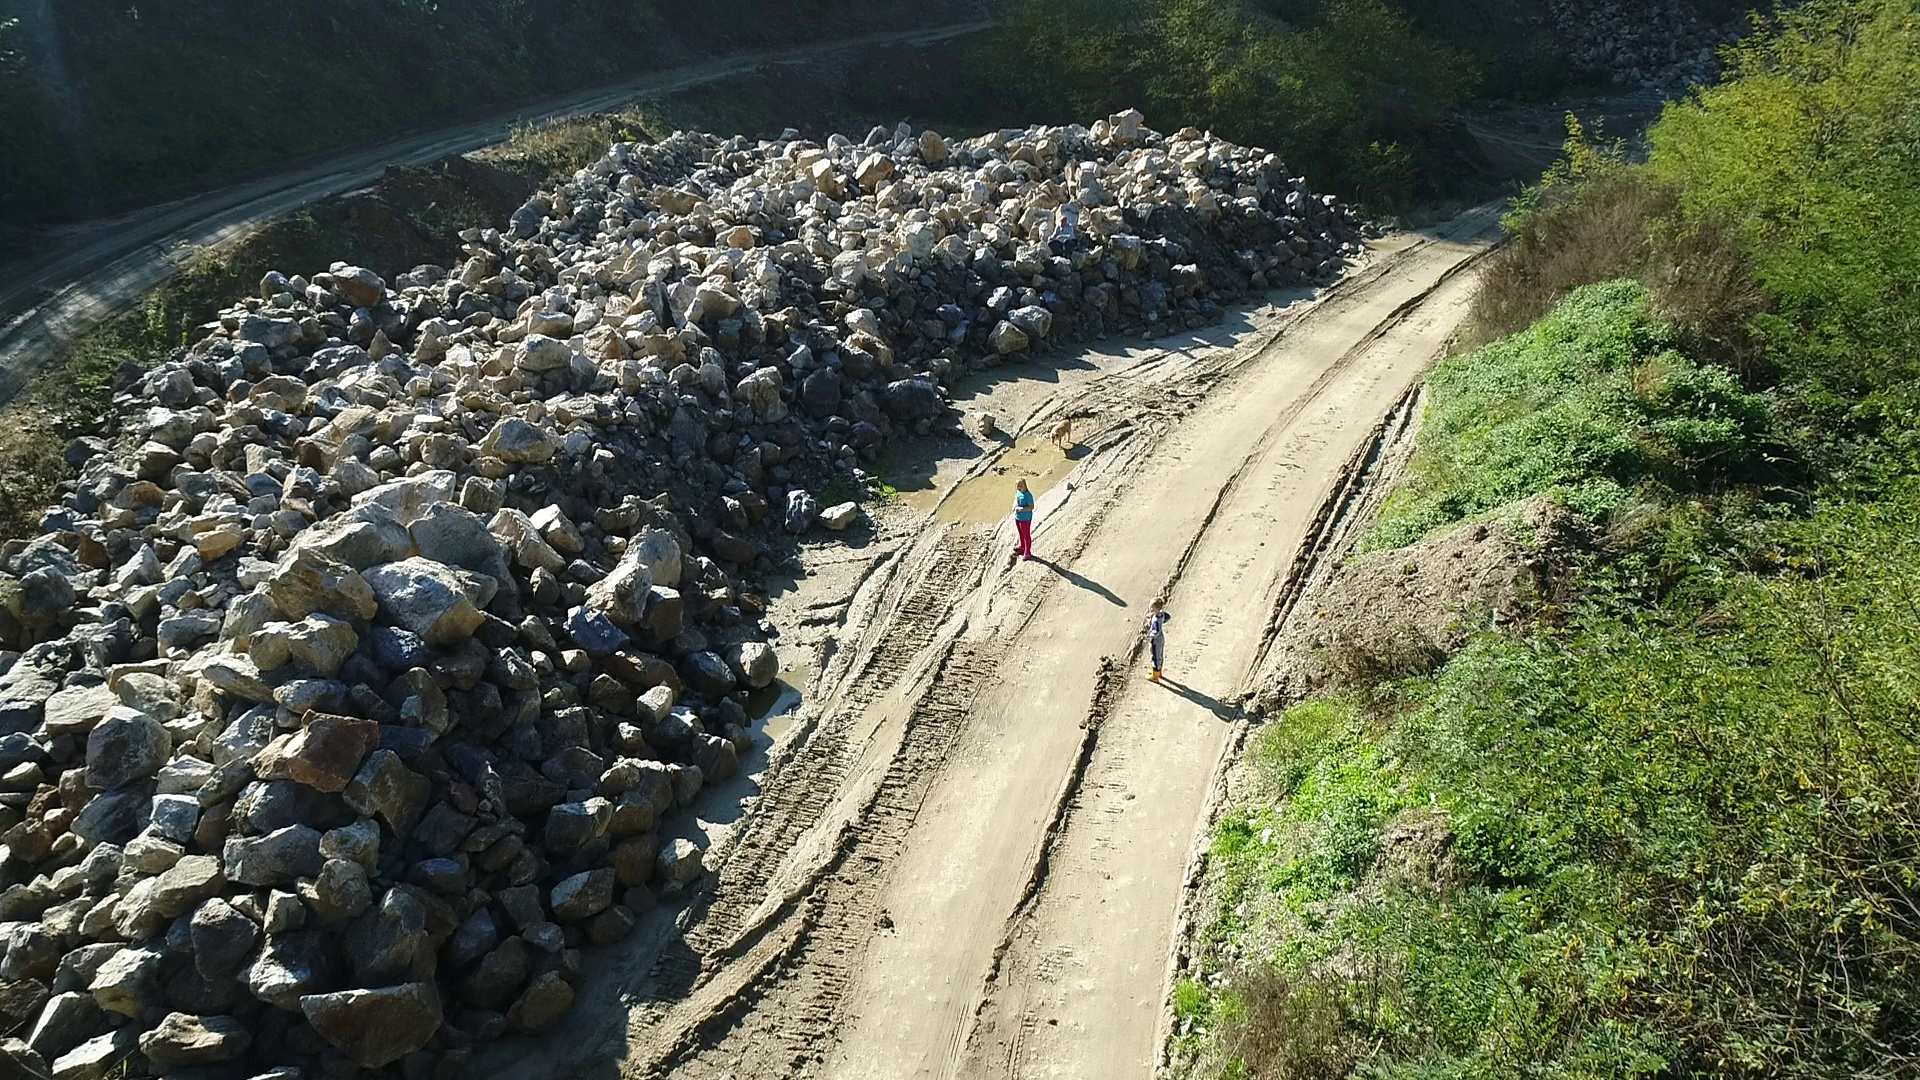person: (1147, 595, 1171, 684), (1012, 476, 1034, 564), (1048, 215, 1075, 258)
